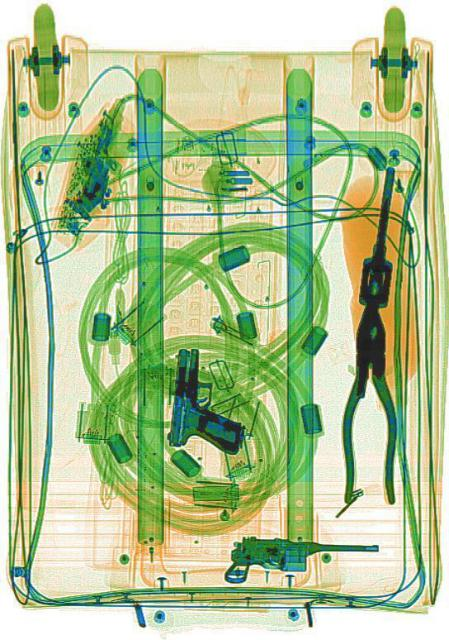Gun: (166, 342, 249, 456), (222, 532, 375, 592)
Pliers: (339, 303, 397, 503)
